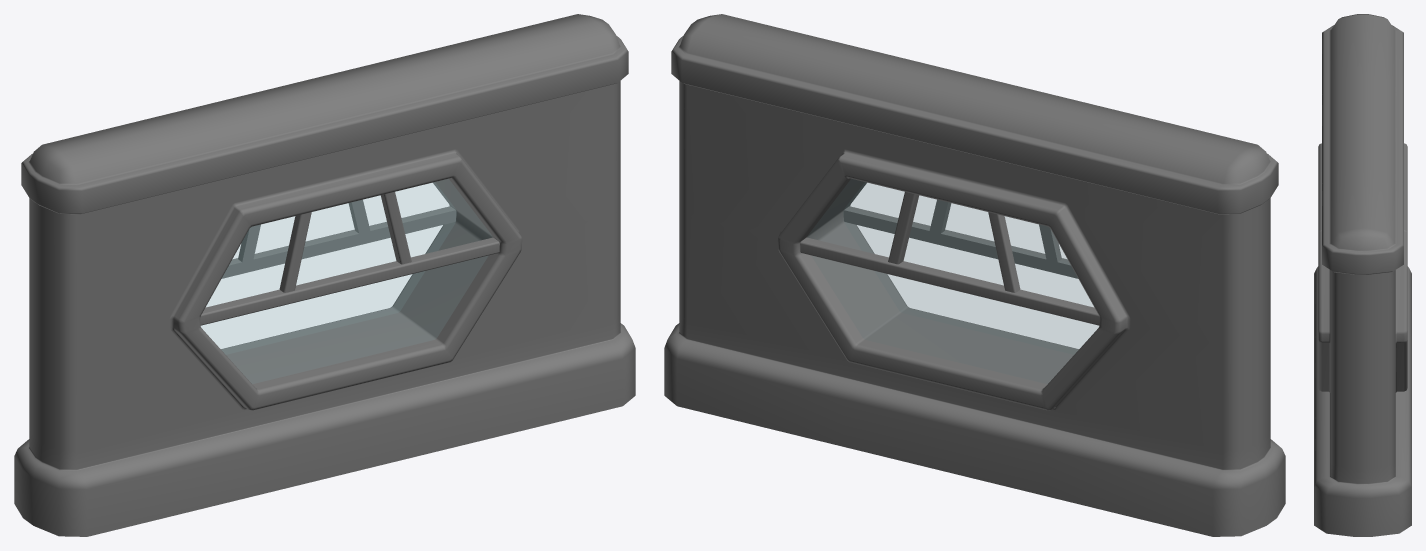
File: Env_Window.fbx
The picture shows the model from 3 angles, left to right: view 1: azimuth 30°, elevation 25°; view 2: azimuth 150°, elevation 25°; view 3: azimuth 270°, elevation 25°; orthographic projection. The views are drawn at different scales.
Parts seen in each view (by area): view 1: Env_Window; view 2: Env_Window; view 3: Env_Window.
Boxes of the visible parts, x1=… form: Env_Window: x1=14, y1=14, x2=635, y2=536; Env_Window: x1=664, y1=14, x2=1285, y2=536; Env_Window: x1=1314, y1=14, x2=1411, y2=536.
Size of the model in its own units: 332 by 195 by 58.24.
